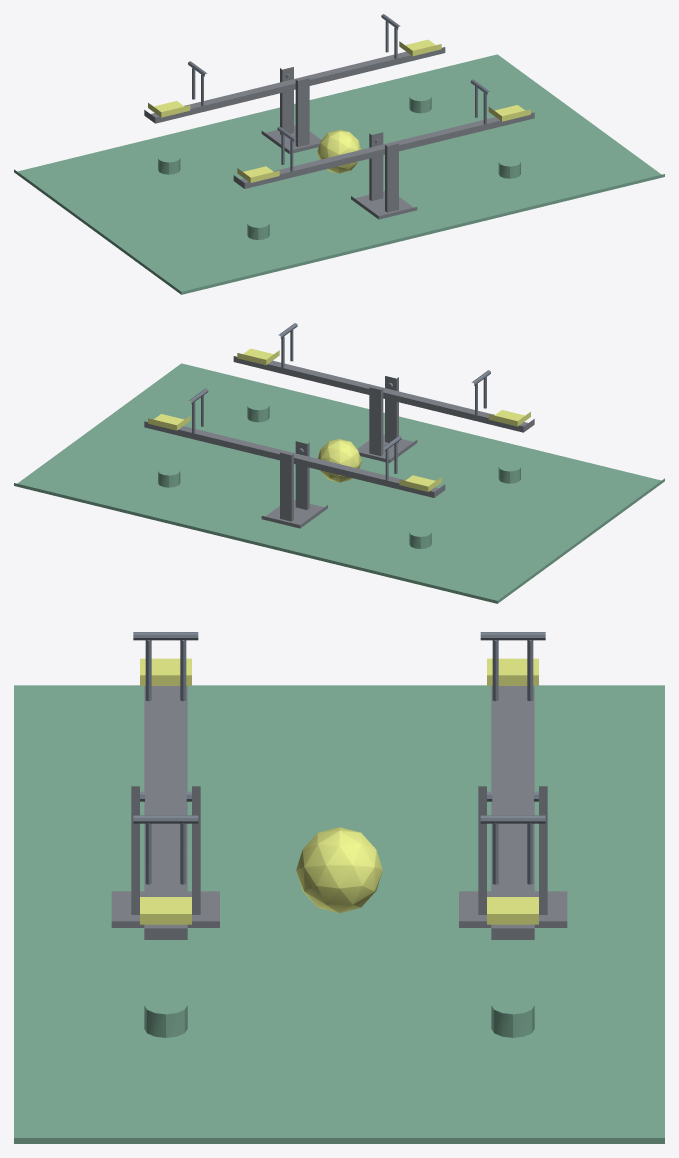
3 renders of one model, top to bottom at view 1: azimuth 30°, elevation 25°; view 2: azimuth 150°, elevation 25°; view 3: azimuth 270°, elevation 25°, orthographic. The views are drawn at different scales.
Parts seen in each view (by area): view 1: Safety_Pad, Seesaw1_Beam, Seesaw2_Beam, Fulcrum2, Fulcrum1, Centre_Ball, Seesaw2_Seats, Seesaw1_Seats, Seesaw2_Handles, Seesaw1_Handles, Bumpers2, Bumpers1; view 2: Safety_Pad, Seesaw2_Beam, Seesaw1_Beam, Fulcrum1, Fulcrum2, Centre_Ball, Seesaw1_Seats, Seesaw2_Seats, Seesaw1_Handles, Seesaw2_Handles, Bumpers1, Bumpers2; view 3: Safety_Pad, Seesaw1_Beam, Seesaw2_Beam, Centre_Ball, Fulcrum1, Fulcrum2, Seesaw1_Handles, Seesaw2_Handles, Seesaw1_Seats, Seesaw2_Seats, Bumpers1, Bumpers2.
Part boxes in pixels (<box>): Safety_Pad: <box>14,54,664,294</box>; Seesaw1_Beam: <box>144,47,445,123</box>; Seesaw2_Beam: <box>233,112,534,188</box>; Fulcrum2: <box>351,132,417,219</box>; Fulcrum1: <box>261,67,321,153</box>; Centre_Ball: <box>317,130,360,173</box>; Seesaw2_Seats: <box>237,105,530,182</box>; Seesaw1_Seats: <box>148,39,441,117</box>; Seesaw2_Handles: <box>277,79,489,171</box>; Seesaw1_Handles: <box>188,14,400,105</box>; Bumpers2: <box>247,162,520,239</box>; Bumpers1: <box>158,97,431,174</box>; Safety_Pad: <box>14,363,664,603</box>; Seesaw2_Beam: <box>233,356,534,432</box>; Seesaw1_Beam: <box>144,421,445,497</box>; Fulcrum1: <box>261,441,327,528</box>; Fulcrum2: <box>357,376,417,462</box>; Centre_Ball: <box>318,439,361,482</box>; Seesaw1_Seats: <box>148,414,441,491</box>; Seesaw2_Seats: <box>237,348,530,426</box>; Seesaw1_Handles: <box>189,388,401,480</box>; Seesaw2_Handles: <box>278,323,490,414</box>; Bumpers1: <box>158,471,431,548</box>; Bumpers2: <box>247,406,520,483</box>; Safety_Pad: <box>14,685,664,1143</box>; Seesaw1_Beam: <box>491,686,534,939</box>; Seesaw2_Beam: <box>144,686,187,939</box>; Centre_Ball: <box>296,827,382,913</box>; Fulcrum1: <box>459,786,567,927</box>; Fulcrum2: <box>111,786,219,927</box>; Seesaw1_Handles: <box>480,632,545,884</box>; Seesaw2_Handles: <box>133,632,198,884</box>; Seesaw1_Seats: <box>487,658,538,924</box>; Seesaw2_Seats: <box>140,658,191,924</box>; Bumpers1: <box>491,1005,534,1037</box>; Bumpers2: <box>144,1005,187,1037</box>.
Size of what is drawn, in the model's own units: 5 by 0.97 by 3.
4 materials, 1 textured.
